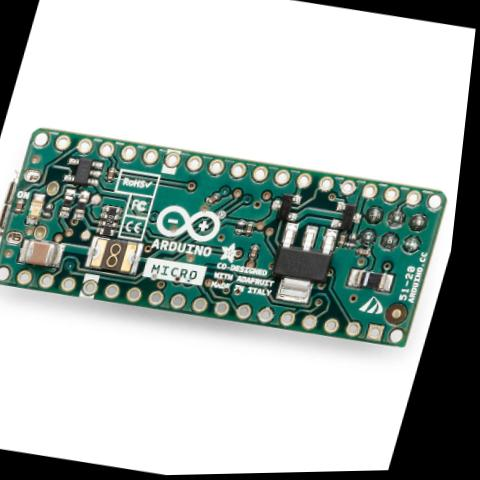Arduino-Micro: (0, 108, 470, 369)
